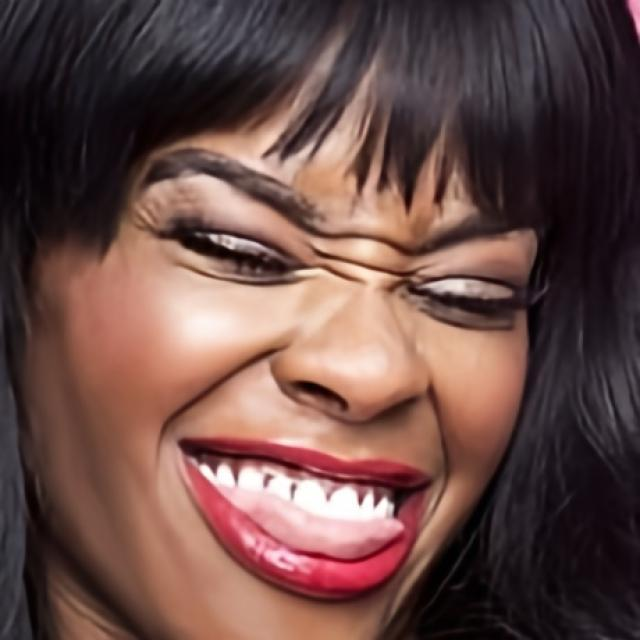happy: (39, 38, 565, 624)
